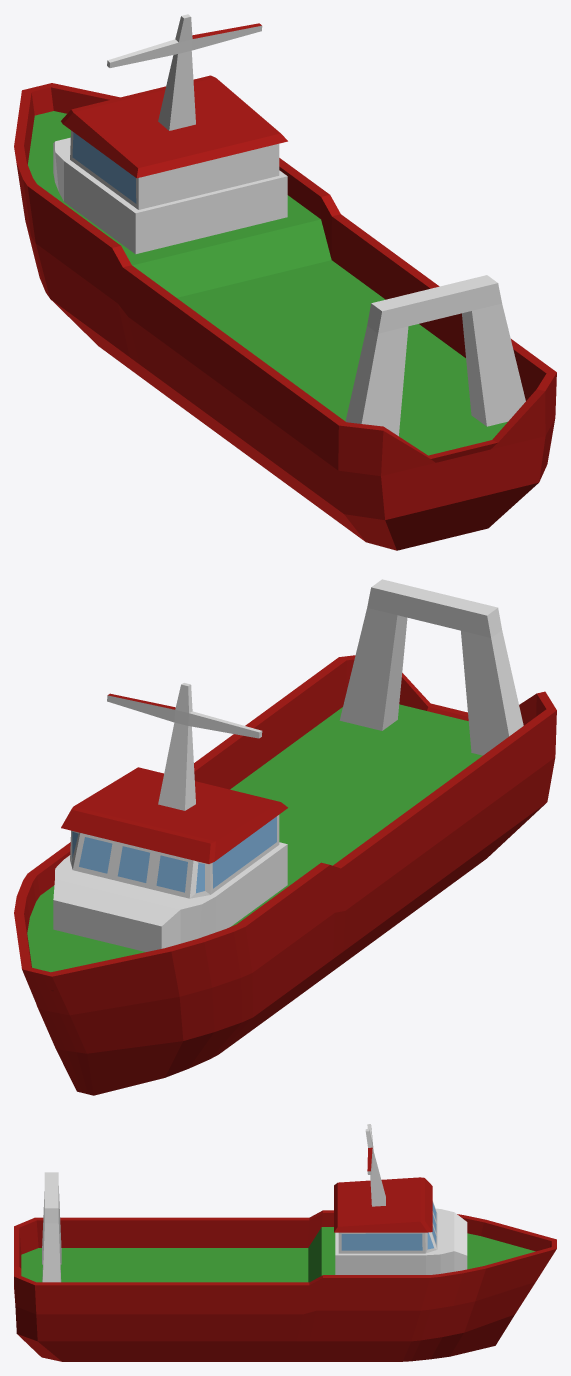
The model's file is BoatRedBig.fbx.
The picture shows the model from 3 angles, top to bottom: view 1: azimuth 30°, elevation 25°; view 2: azimuth 150°, elevation 25°; view 3: azimuth 270°, elevation 25°; orthographic projection. The views are drawn at different scales.
Visible parts, largest first — view 1: BoatRedBig; view 2: BoatRedBig; view 3: BoatRedBig.
Boxes of the visible parts, box(x1,y1,x2,y2) form: BoatRedBig: box(14, 14, 556, 550); BoatRedBig: box(14, 579, 556, 1095); BoatRedBig: box(14, 1124, 556, 1361).
Size of the model in its own units: 278 by 409 by 943.
